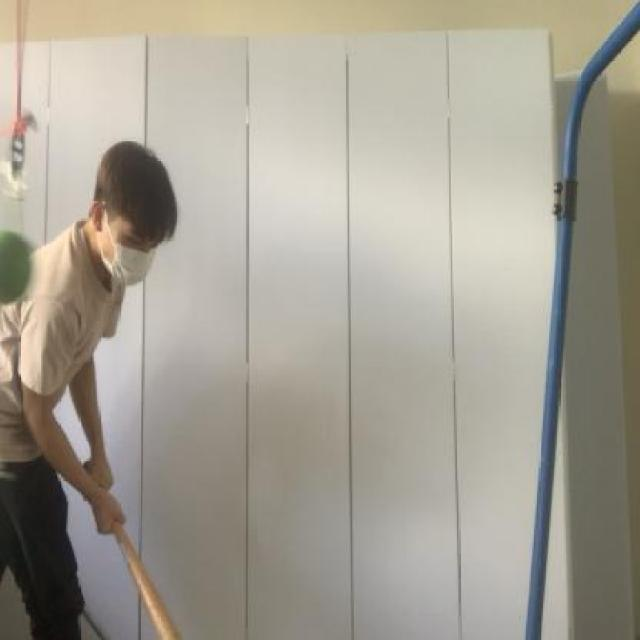baseball: (1, 218, 41, 308)
